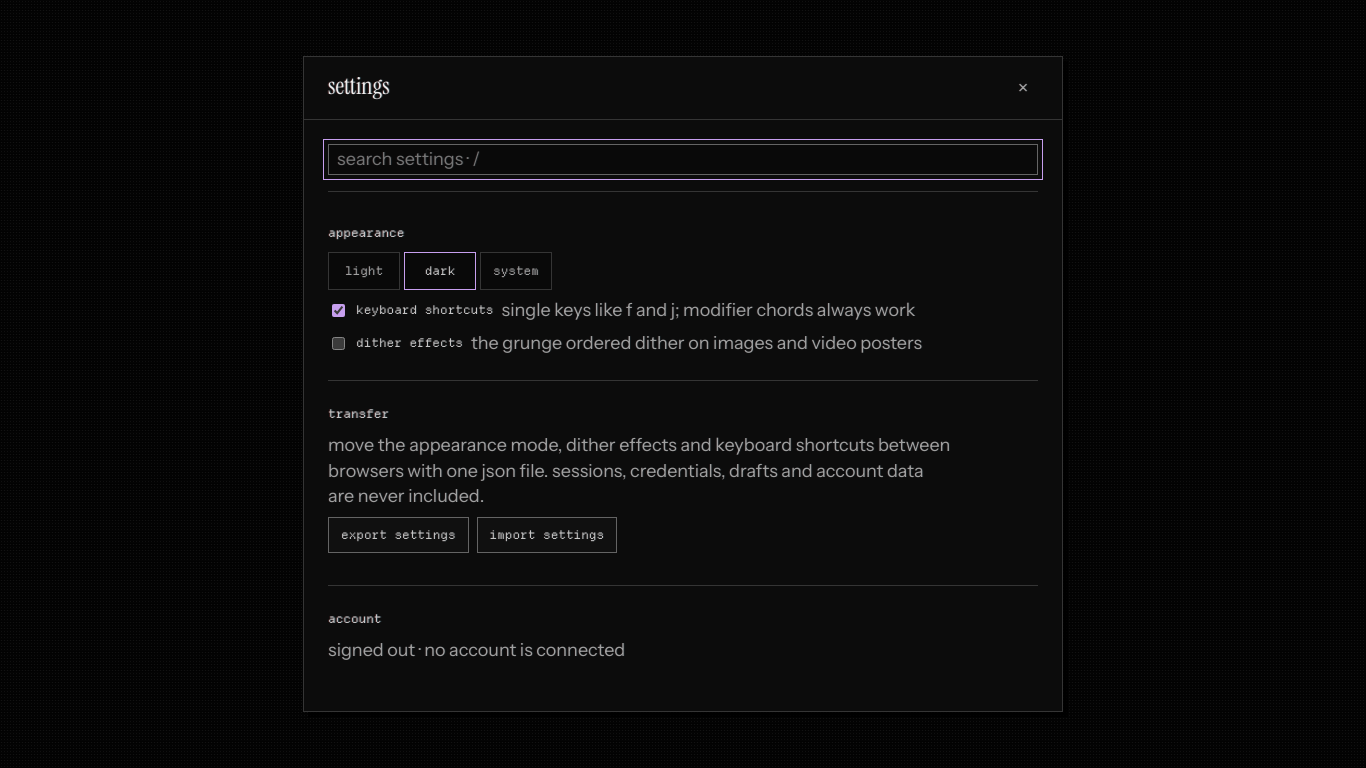
SettingsDialog dither effects setting › exports the dither preference in the settings file
Click the button "export settings": (398, 535) top-left (328, 517), bottom-right (468, 553)
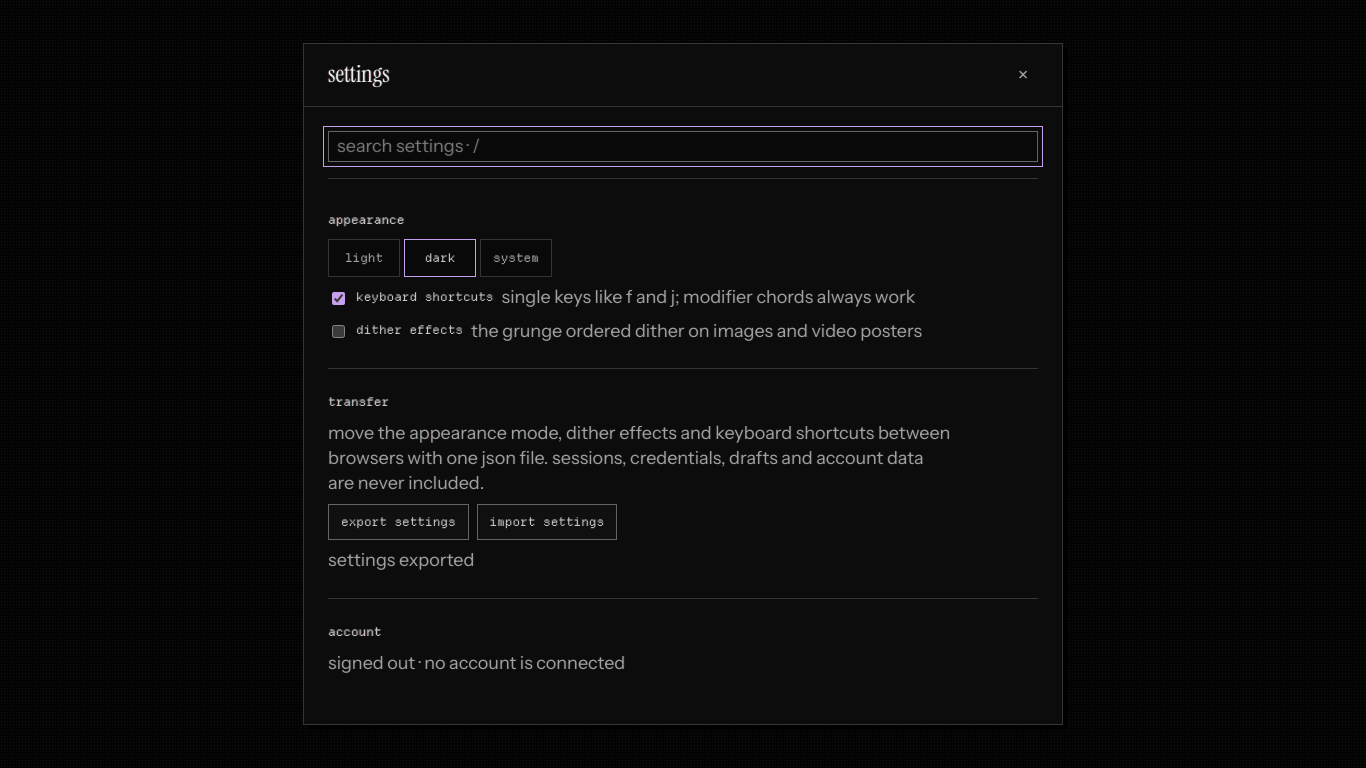
Check: the text "settings exported" is shown, box top-left (328, 549), bottom-right (474, 571)
